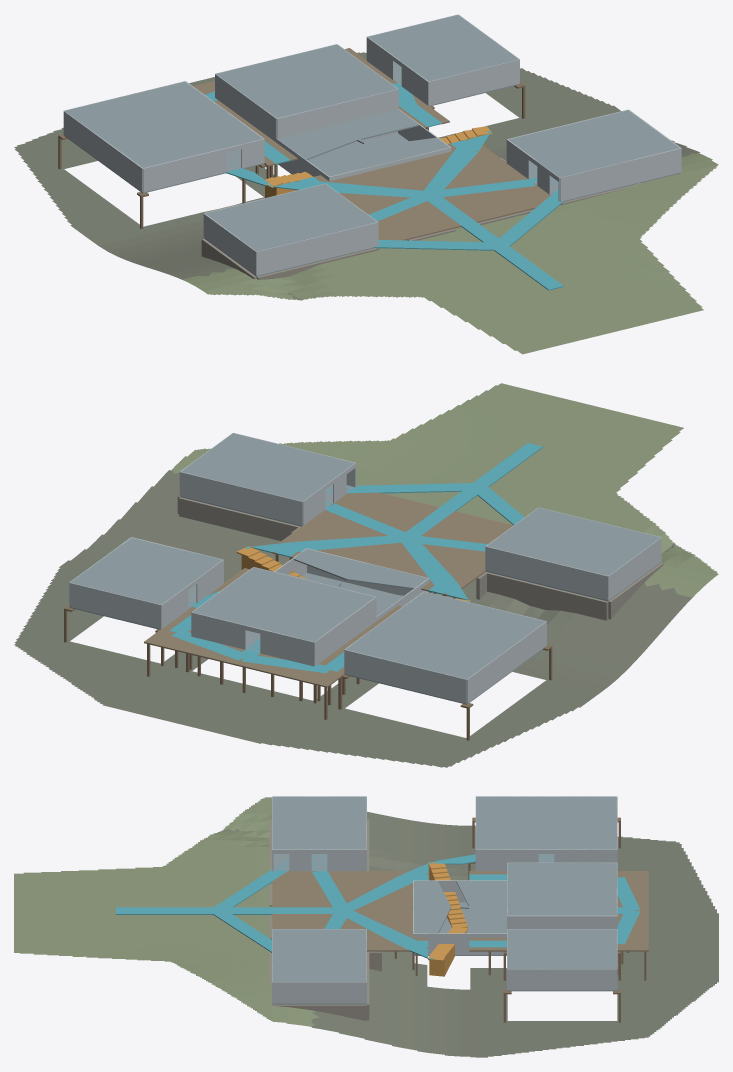
The model's file is supported-stairs.glb.
3 renders of one model, top to bottom at view 1: azimuth 30°, elevation 25°; view 2: azimuth 150°, elevation 25°; view 3: azimuth 270°, elevation 25°, orthographic. The views are drawn at different scales.
Parts seen in each view (by area): view 1: Saved editor macroterrain WLD-06, Ceiling cap boathouse, Ceiling cap fish, Ceiling cap cottage-a, Ceiling cap cottage-b, Ceiling cap net, Wall cottage-a S, Wall cottage-b S, Wall fish S, Wall net S, Wall boathouse S, Wall boathouse W (+24 smaller); view 2: Saved editor macroterrain WLD-06, Ceiling cap boathouse, Ceiling cap fish, Ceiling cap cottage-b, Ceiling cap cottage-a, Ceiling cap net, Wall cottage-a N, Wall boathouse N, Wall cottage-b N, Wall net N, Wall boathouse W, Wall fish W (+16 smaller); view 3: Saved editor macroterrain WLD-06, Ceiling cap boathouse, Ceiling cap fish, Ceiling cap cottage-a, Ceiling cap cottage-b, Ceiling cap net, Wall net E, Wall cottage-b E, Wall fish E, Wall boathouse E.001, Wall undercroft E, Ceiling cap undercroft (+20 smaller).
Boxes of the visible parts, x1=… form: Saved editor macroterrain WLD-06: x1=14, y1=52, x2=718, y2=354; Ceiling cap boathouse: x1=64, y1=81, x2=263, y2=167; Ceiling cap fish: x1=216, y1=44, x2=397, y2=118; Ceiling cap cottage-a: x1=205, y1=184, x2=376, y2=251; Ceiling cap cottage-b: x1=508, y1=110, x2=679, y2=177; Ceiling cap net: x1=368, y1=15, x2=518, y2=81; Wall cottage-a S: x1=256, y1=222, x2=378, y2=275; Wall cottage-b S: x1=560, y1=148, x2=681, y2=201; Wall fish S: x1=277, y1=89, x2=398, y2=138; Wall net S: x1=428, y1=59, x2=519, y2=105; Wall boathouse S: x1=143, y1=148, x2=226, y2=192; Wall boathouse W: x1=63, y1=111, x2=142, y2=192; Saved editor macroterrain WLD-06: x1=14, y1=383, x2=718, y2=767; Ceiling cap boathouse: x1=345, y1=591, x2=545, y2=678; Ceiling cap fish: x1=192, y1=567, x2=375, y2=641; Ceiling cap cottage-b: x1=181, y1=433, x2=354, y2=501; Ceiling cap cottage-a: x1=486, y1=507, x2=660, y2=575; Ceiling cap net: x1=70, y1=538, x2=222, y2=604; Wall cottage-a N: x1=485, y1=546, x2=608, y2=600; Wall boathouse N: x1=344, y1=649, x2=466, y2=703; Wall cottage-b N: x1=180, y1=471, x2=302, y2=525; Wall net N: x1=69, y1=582, x2=161, y2=628; Wall boathouse W: x1=467, y1=621, x2=546, y2=703; Wall fish W: x1=314, y1=597, x2=376, y2=666; Saved editor macroterrain WLD-06: x1=14, y1=797, x2=718, y2=1057; Ceiling cap boathouse: x1=476, y1=796, x2=617, y2=849; Ceiling cap fish: x1=507, y1=863, x2=617, y2=915; Ceiling cap cottage-a: x1=272, y1=796, x2=366, y2=849; Ceiling cap cottage-b: x1=272, y1=929, x2=366, y2=981; Ceiling cap net: x1=507, y1=929, x2=617, y2=968; Wall net E: x1=507, y1=968, x2=617, y2=990; Wall cottage-b E: x1=272, y1=982, x2=366, y2=1003; Wall fish E: x1=507, y1=915, x2=617, y2=928; Wall boathouse E.001: x1=476, y1=849, x2=538, y2=871; Wall undercroft E: x1=413, y1=933, x2=506, y2=955; Ceiling cap undercroft: x1=469, y1=880, x2=506, y2=906.
Bounding box in the file's own units: 70 × 7.86 × 90.
